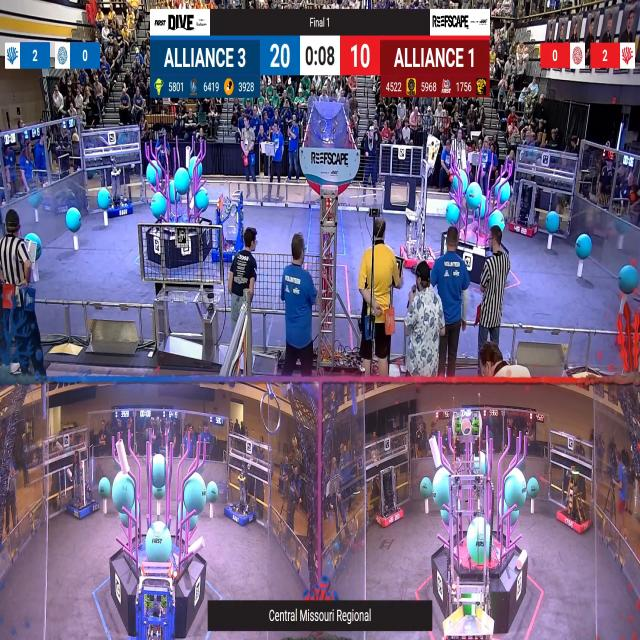scoreboard: (151, 37, 489, 96)
